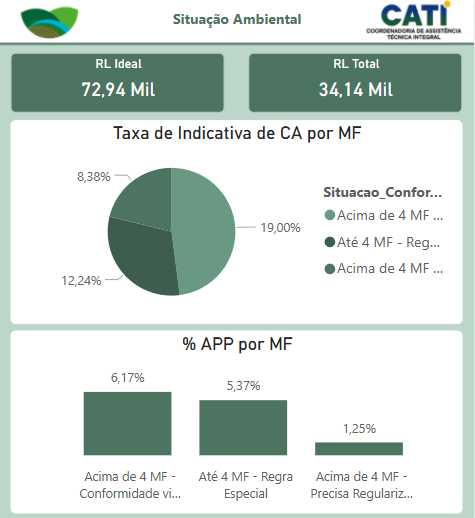

This screenshot's page, from the dashboard's own definition file:
{"tool":"powerbi","page":{"name":"TT_01(Situação Ambiental)","canvas":[450,500],"ordinal":6},"visuals":[{"type":"clusteredColumnChart","title":"% APP por MF","fields":{"Category":["Temas Ambientais.Situacao_Conformidade"],"Y":["medidas.% APP"]},"box":[9.8,317,429.2,173.9],"z":0},{"type":"card","title":"RL Ideal","fields":{"Values":["medidas.RL Ideal"]},"box":[9.8,53.2,202.8,57.1],"z":1000},{"type":"card","title":"RL Total","fields":{"Values":["medidas.Total RL"]},"box":[236.2,53.2,202.8,57.1],"z":2000},{"type":"pieChart","title":"Taxa de Indicativa de CA por MF","fields":{"Y":["medidas.Taxa de Indicativa de CA"],"Category":["Temas Ambientais.Situacao_Conformidade"]},"box":[9.8,116.8,429.2,194.2],"z":3000},{"type":"textbox","box":[153.5,6.6,143.1,28.9],"z":4000}]}

Visuals, with their boxes in screenshot pixels (x1, y1, x2, y2), scaled from the page's 450x500 canvas onto the 475x518 screenshot:
"% APP por MF" clusteredColumnChart: left=10, top=328, right=463, bottom=509
"RL Ideal" card: left=10, top=55, right=224, bottom=114
"RL Total" card: left=249, top=55, right=463, bottom=114
"Taxa de Indicativa de CA por MF" pieChart: left=10, top=121, right=463, bottom=322
textbox: left=162, top=7, right=313, bottom=37
